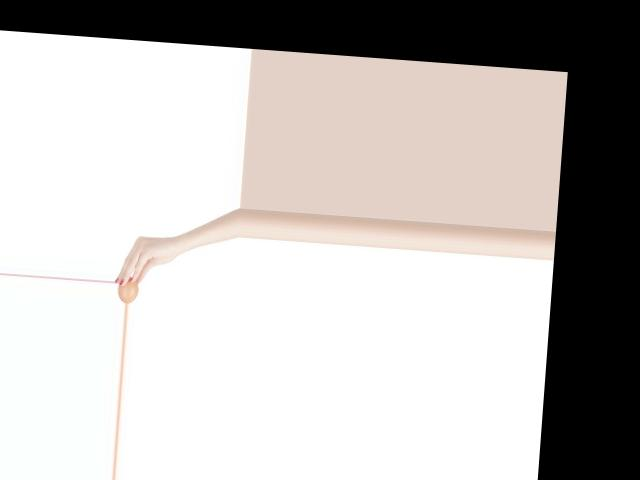egg: (117, 276, 139, 303)
